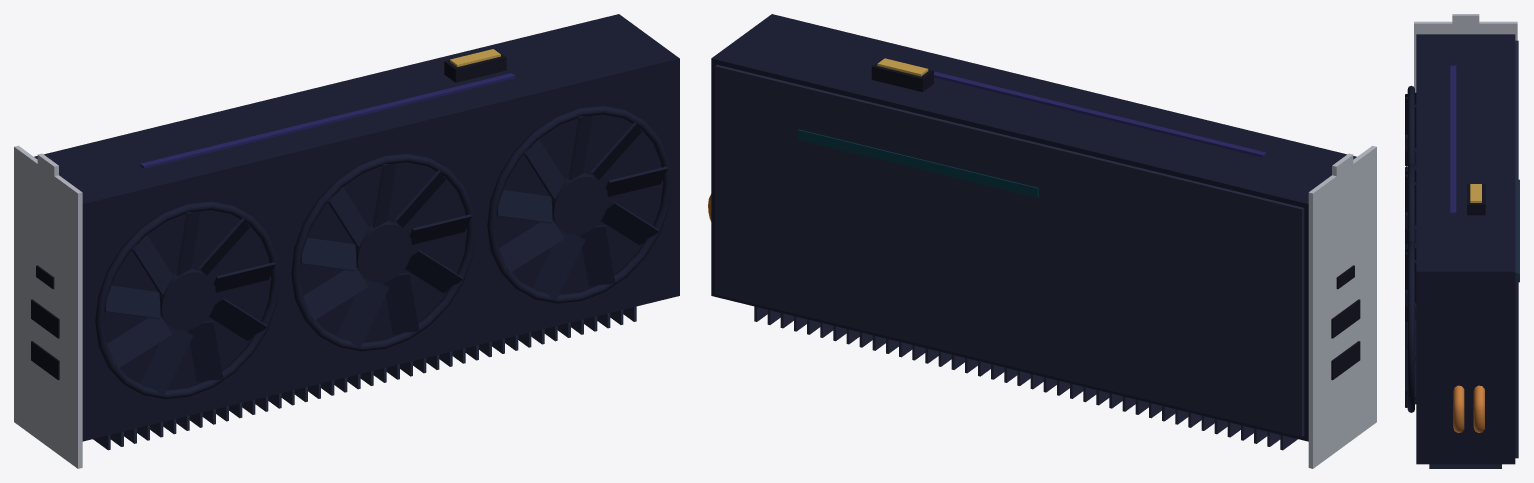
The model's file is gpu-flagship.glb.
The picture shows the model from 3 angles, left to right: view 1: azimuth 30°, elevation 25°; view 2: azimuth 150°, elevation 25°; view 3: azimuth 270°, elevation 25°; orthographic projection. The views are drawn at different scales.
Parts seen in each view (by area): view 1: shroud, pcie_bracket, blades_2, blades_3, blades_1, fin_comb, fan_ring, fan_ring_1, fan_ring_2, side_rgb_strip, io_cutouts, power_connector; view 2: backplate, shroud, pcie_bracket, fin_comb, backplate_slit, side_rgb_strip, io_cutouts, power_connector; view 3: shroud, backplate, pcie_bracket, fan_ring_2, heatpipes, side_rgb_strip, blades_3, fan_ring, fan_ring_1, power_connector, blades_2, blades_1 (+4 smaller).
Part boxes in pixels (x1=…): shroud: x1=34, y1=14, x2=679, y2=441; pcie_bracket: x1=14, y1=145, x2=82, y2=468; blades_2: x1=300, y1=163, x2=471, y2=347; blades_3: x1=496, y1=115, x2=667, y2=299; blades_1: x1=104, y1=211, x2=275, y2=395; fin_comb: x1=93, y1=306, x2=636, y2=450; fan_ring: x1=95, y1=201, x2=279, y2=399; fan_ring_1: x1=291, y1=153, x2=475, y2=351; fan_ring_2: x1=487, y1=106, x2=671, y2=303; side_rgb_strip: x1=140, y1=73, x2=515, y2=168; io_cutouts: x1=31, y1=265, x2=59, y2=380; power_connector: x1=444, y1=49, x2=506, y2=82; backplate: x1=715, y1=64, x2=1304, y2=437; shroud: x1=711, y1=14, x2=1356, y2=441; pcie_bracket: x1=1308, y1=145, x2=1376, y2=468; fin_comb: x1=754, y1=306, x2=1297, y2=450; backplate_slit: x1=798, y1=129, x2=1038, y2=197; side_rgb_strip: x1=934, y1=71, x2=1266, y2=157; io_cutouts: x1=1331, y1=265, x2=1360, y2=380; power_connector: x1=871, y1=58, x2=933, y2=91; shroud: x1=1416, y1=34, x2=1515, y2=464; backplate: x1=1515, y1=40, x2=1518, y2=458; pcie_bracket: x1=1414, y1=21, x2=1517, y2=92; fan_ring_2: x1=1407, y1=241, x2=1414, y2=412; heatpipes: x1=1453, y1=385, x2=1484, y2=432; side_rgb_strip: x1=1450, y1=65, x2=1456, y2=214; blades_3: x1=1405, y1=248, x2=1416, y2=407; fan_ring: x1=1407, y1=85, x2=1414, y2=166; fan_ring_1: x1=1407, y1=163, x2=1414, y2=243; power_connector: x1=1467, y1=184, x2=1485, y2=215; blades_2: x1=1405, y1=170, x2=1416, y2=322; blades_1: x1=1405, y1=92, x2=1416, y2=244.
Size of the model in its own units: 347 by 150 by 67.5.
